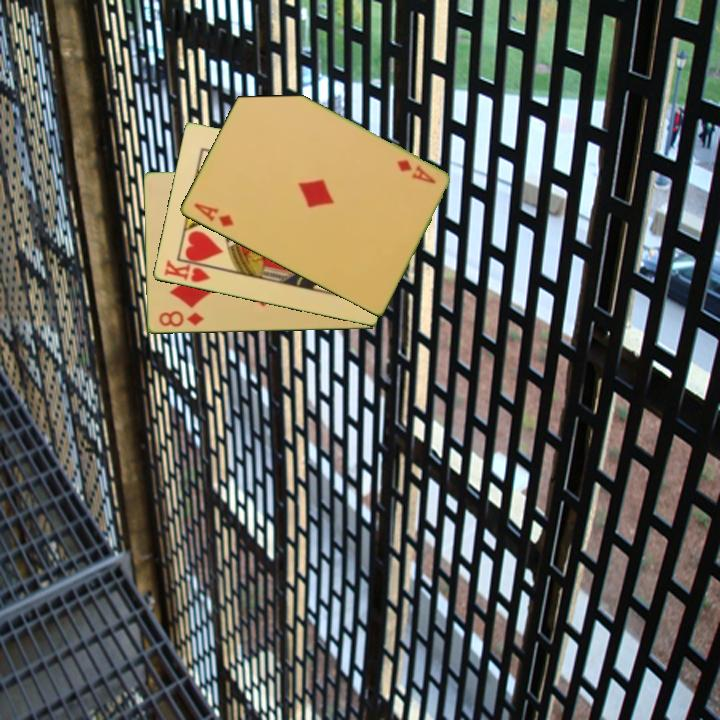8d: (155, 308, 207, 330)
Ad: (393, 156, 438, 187), (190, 200, 236, 230)
Kh: (160, 257, 218, 286)
